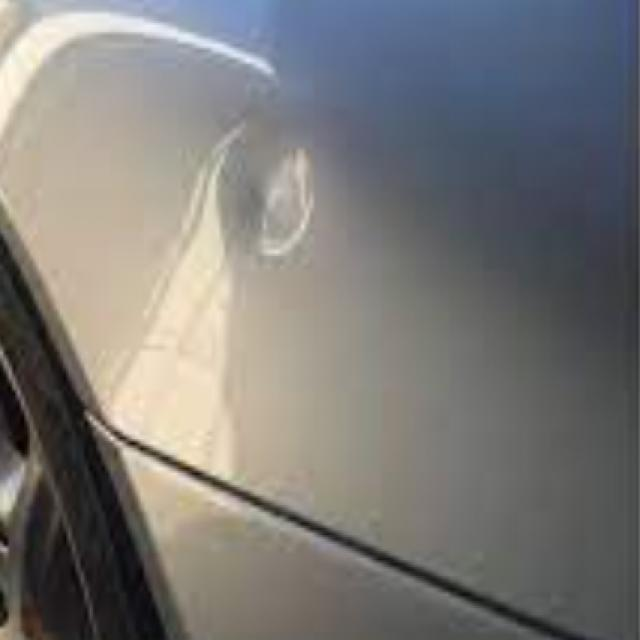dents: (222, 136, 319, 265)
